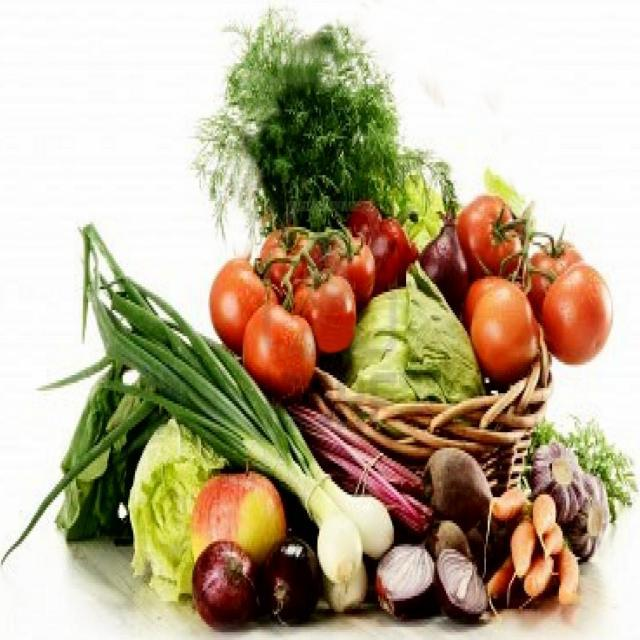Tomato: (461, 284, 553, 385), (207, 248, 294, 352), (241, 286, 322, 396), (542, 268, 618, 370), (301, 263, 363, 358)
